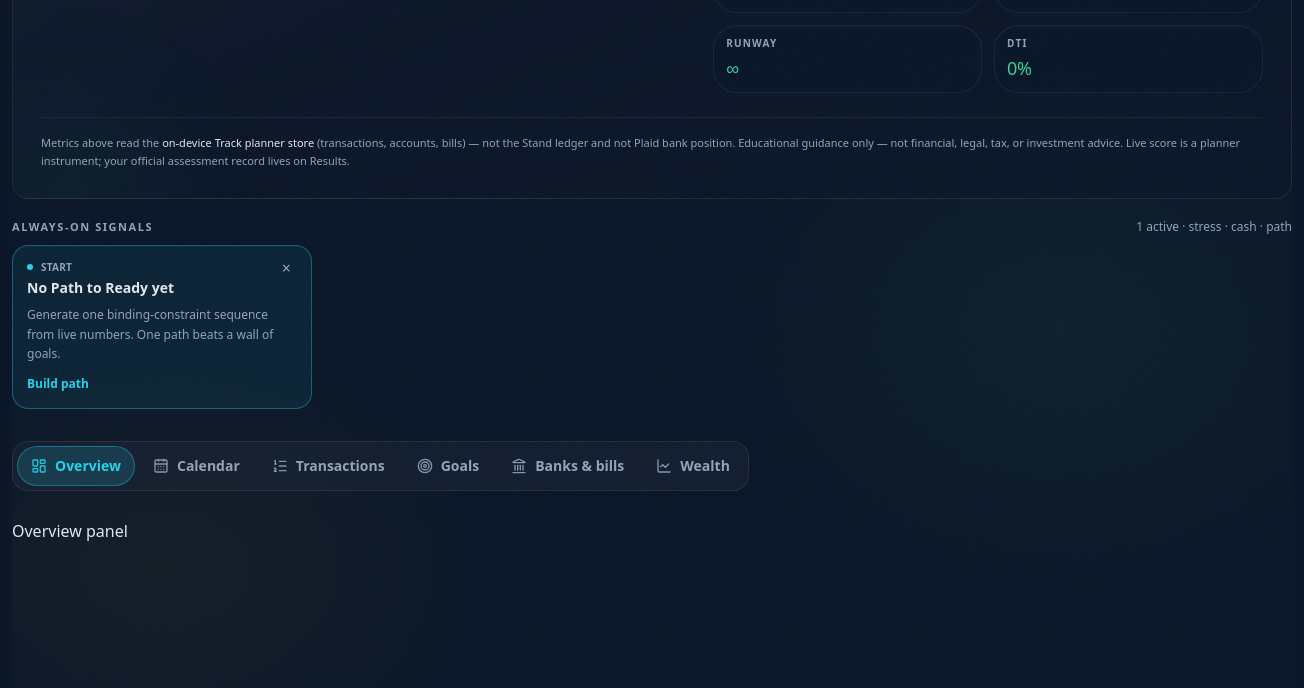
Test case: PlannerPage NudgeRail vs Track Overview › hides NudgeRail on overview and shows it on other sections
(page scrolled)
Expected: the text "Overview panel" is shown, left=12, top=520, right=128, bottom=542
Expected: the text "Protect the decision first" is not shown
What coordinates should you click on to do the following:
click the tab "Calendar"
I would click on:
 (196, 466)
Its box is left=139, top=446, right=254, bottom=486.
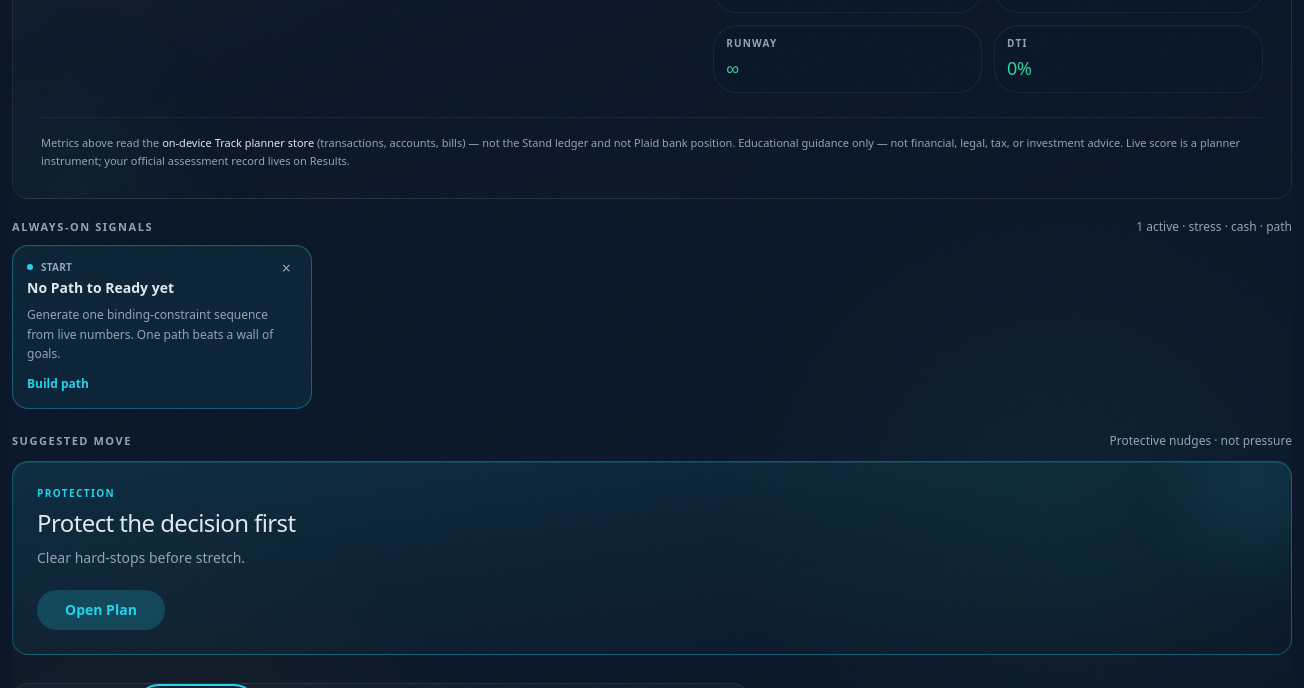
Now the heading "Protect the decision first" is shown, box left=37, top=506, right=296, bottom=539
Now the text "Suggested move" is shown, box left=12, top=433, right=132, bottom=449
